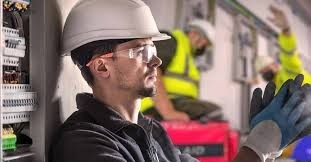safety_goggles: (80, 42, 172, 73)
